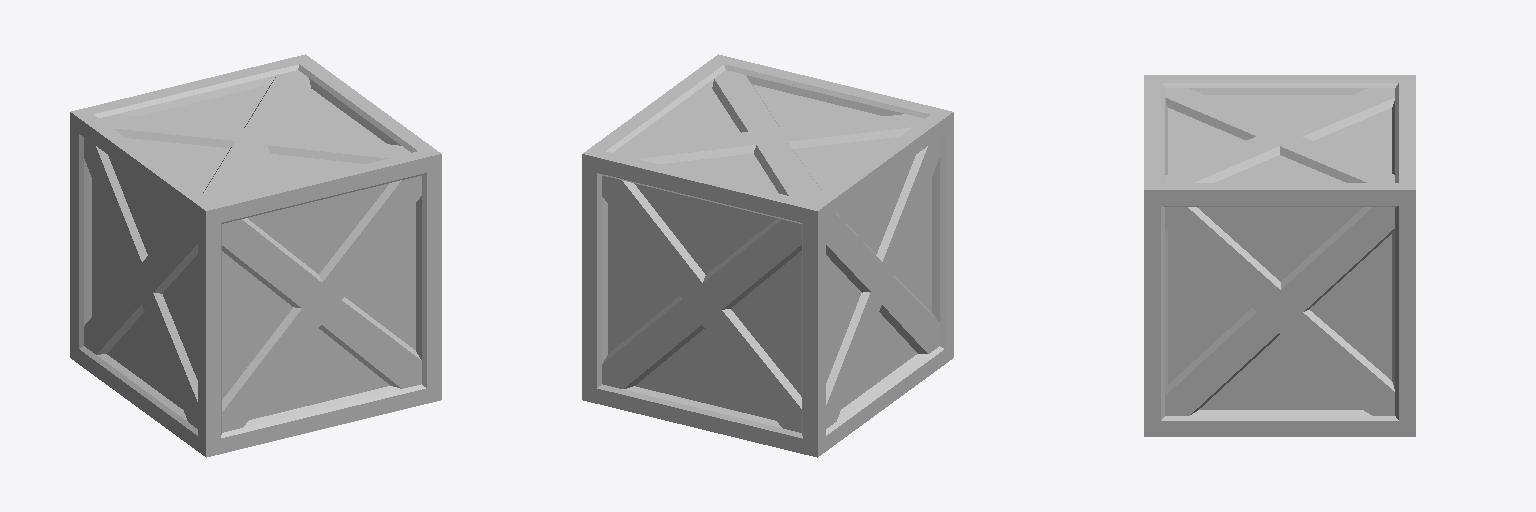
File: crate.obj
The picture shows the model from 3 angles: view 1: azimuth 30°, elevation 25°; view 2: azimuth 150°, elevation 25°; view 3: azimuth 270°, elevation 25°; orthographic projection.
Parts seen in each view (by area): view 1: Cube_Cube.001; view 2: Cube_Cube.001; view 3: Cube_Cube.001.
Boxes of the visible parts, box(x1,y1,x2,y2) form: Cube_Cube.001: box(70, 54, 441, 457); Cube_Cube.001: box(582, 54, 953, 457); Cube_Cube.001: box(1144, 75, 1415, 436).
Size of the model in its own units: 2 by 2 by 2.